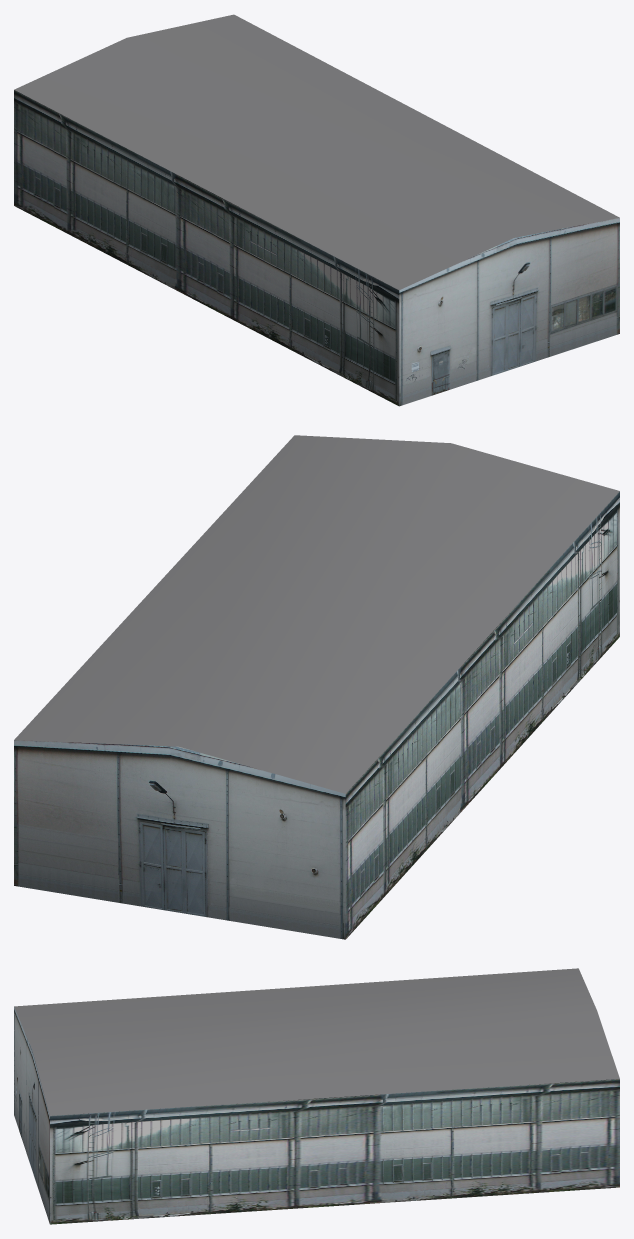
Rendered from VVT-Halle.gltf.
The picture shows the model from 3 angles, top to bottom: view 1: azimuth 30°, elevation 25°; view 2: azimuth 150°, elevation 25°; view 3: azimuth 270°, elevation 25°; orthographic projection. The views are drawn at different scales.
Visible parts, largest first — view 1: Dach.1; view 2: Dach.1; view 3: Dach.1.
Boxes of the visible parts, box(x1,y1,x2,y2) form: Dach.1: box(14, 14, 619, 406); Dach.1: box(14, 435, 619, 939); Dach.1: box(14, 968, 619, 1224).
Size of the model in its own units: 27.39 by 10.6 by 47.52.
5 materials, 4 textured.
